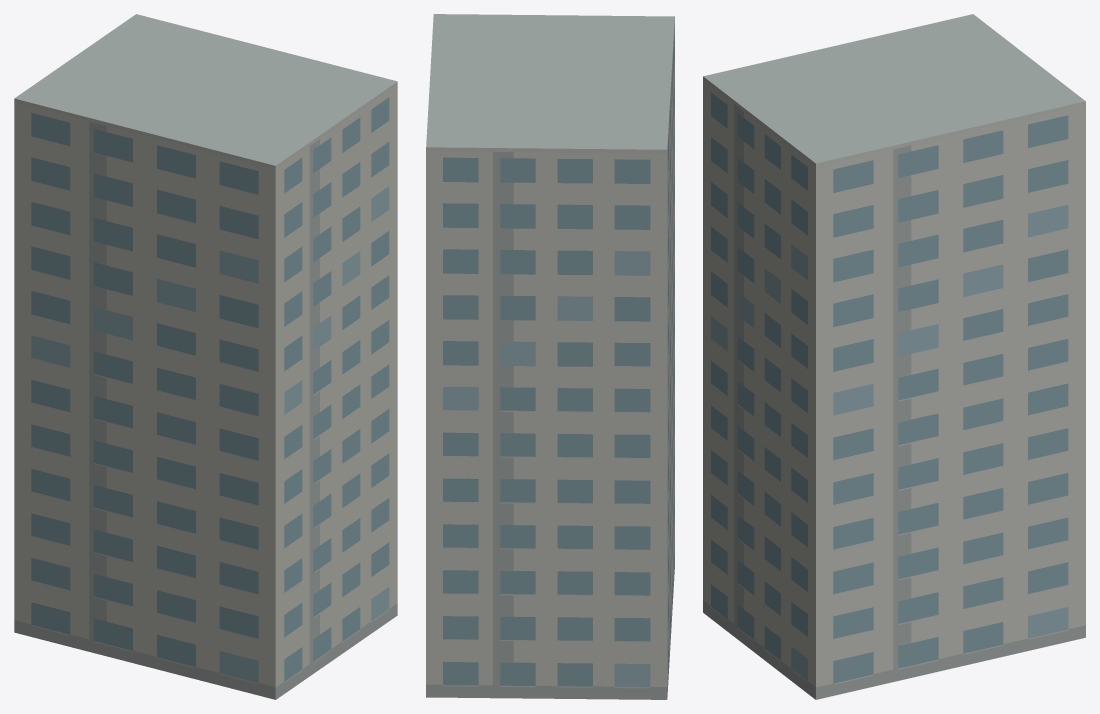
File: residential-639b6afa-b7ce-4f79-8f18-39c6c44282a0.glb
3 views of the same model, side by side, from view 1: azimuth 30°, elevation 25°; view 2: azimuth 150°, elevation 25°; view 3: azimuth 270°, elevation 25° (orthographic). The views are drawn at different scales.
Parts seen in each view (by area): view 1: residential-639b6afa-b7ce-4f79-8f18-39c6c44282a0.tmp; view 2: residential-639b6afa-b7ce-4f79-8f18-39c6c44282a0.tmp; view 3: residential-639b6afa-b7ce-4f79-8f18-39c6c44282a0.tmp.
Part boxes in pixels (x1,y1,x2,y2): residential-639b6afa-b7ce-4f79-8f18-39c6c44282a0.tmp: (14, 14, 397, 699); residential-639b6afa-b7ce-4f79-8f18-39c6c44282a0.tmp: (426, 14, 674, 699); residential-639b6afa-b7ce-4f79-8f18-39c6c44282a0.tmp: (703, 14, 1085, 699).
Bounding box in the file's own units: 20.94 × 35 × 22.64.
